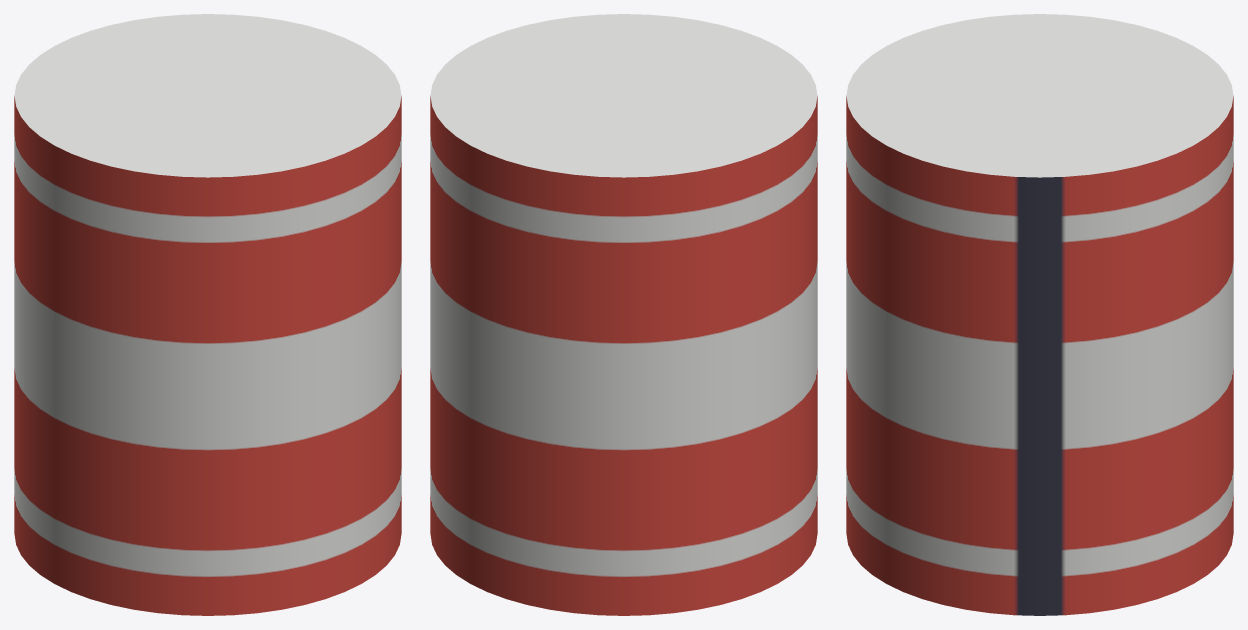
3 renders of one model, left to right at view 1: azimuth 30°, elevation 25°; view 2: azimuth 150°, elevation 25°; view 3: azimuth 270°, elevation 25°, orthographic.
Visible parts, largest first — view 1: can; view 2: can; view 3: can.
Boxes of the visible parts, <box> form: can: <box>14,14,401,615</box>; can: <box>430,14,817,615</box>; can: <box>846,14,1233,615</box>.
Bounding box in the file's own units: 0.24 × 0.3 × 0.24.
1 material, 1 textured.
